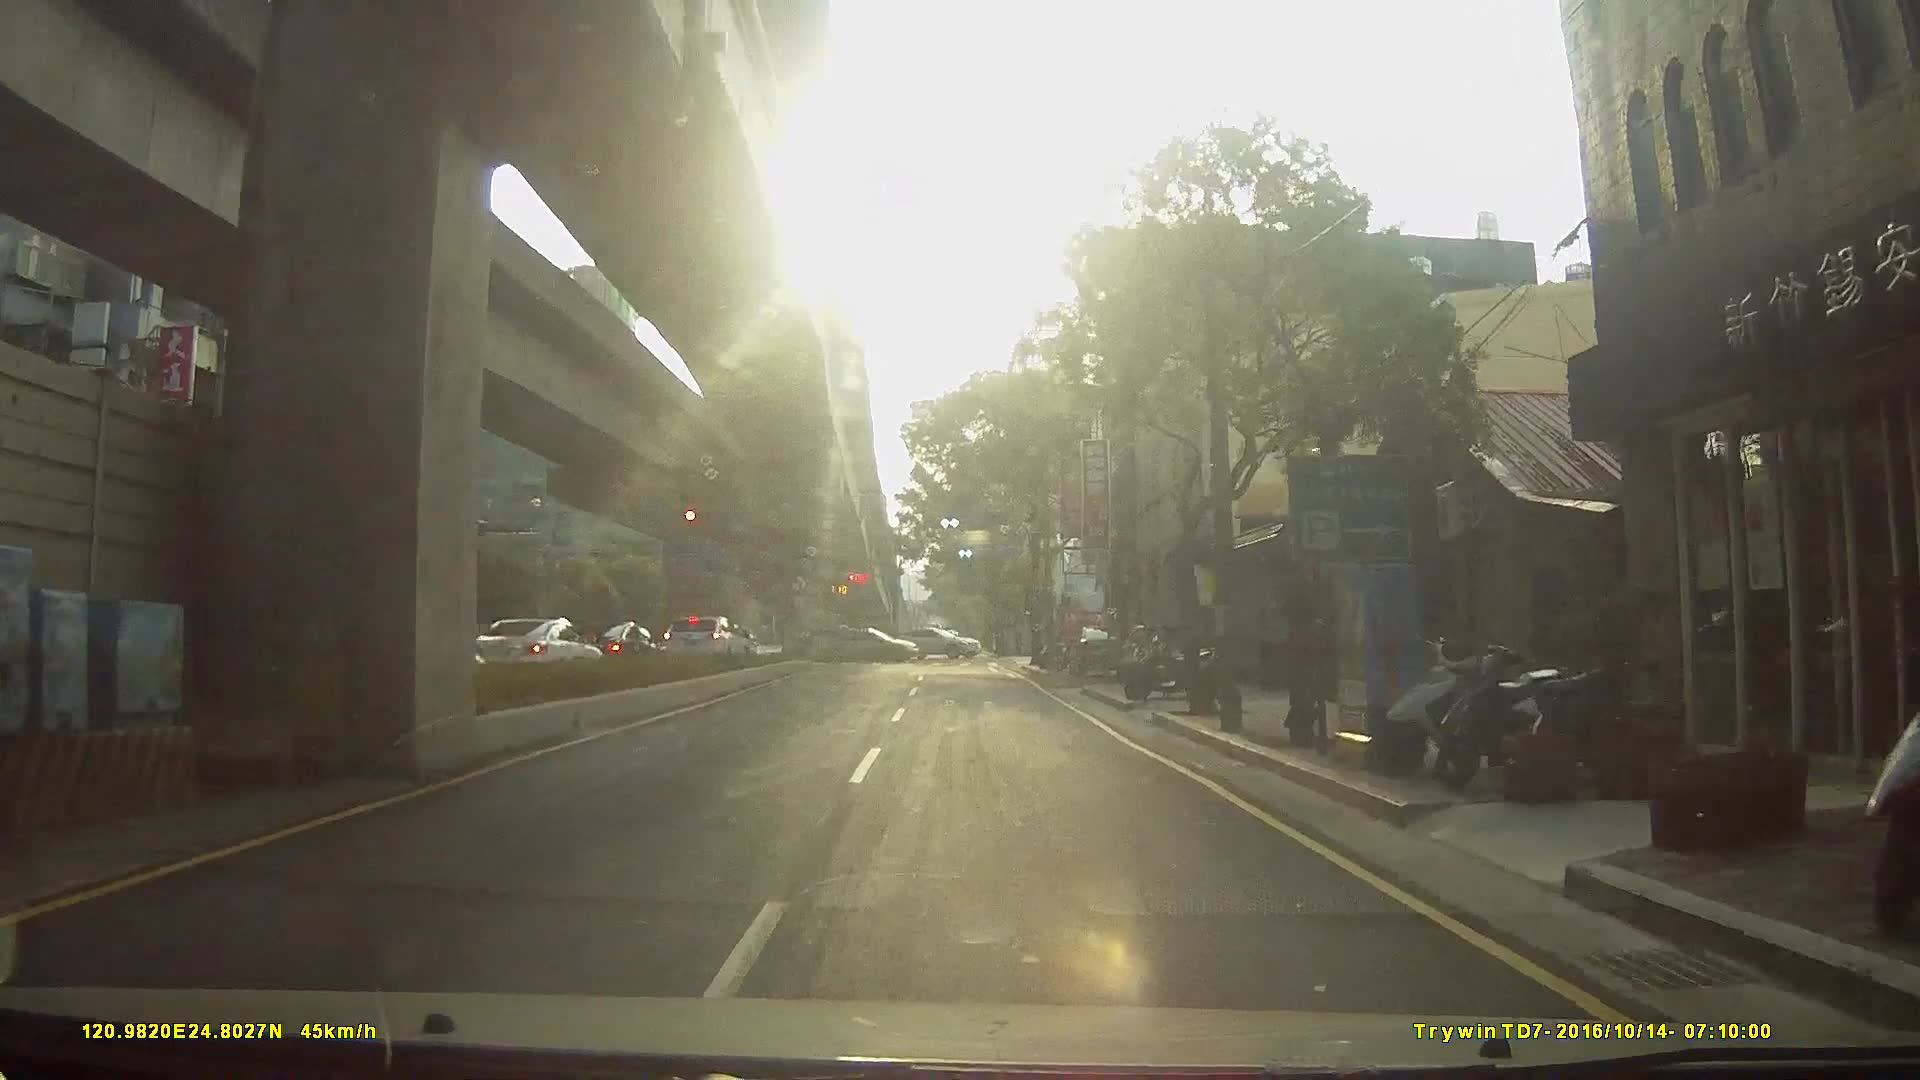vehicle: (458, 616, 599, 684), (560, 620, 665, 675), (655, 615, 753, 666), (822, 625, 924, 663), (1065, 618, 1130, 675), (895, 625, 986, 659)
